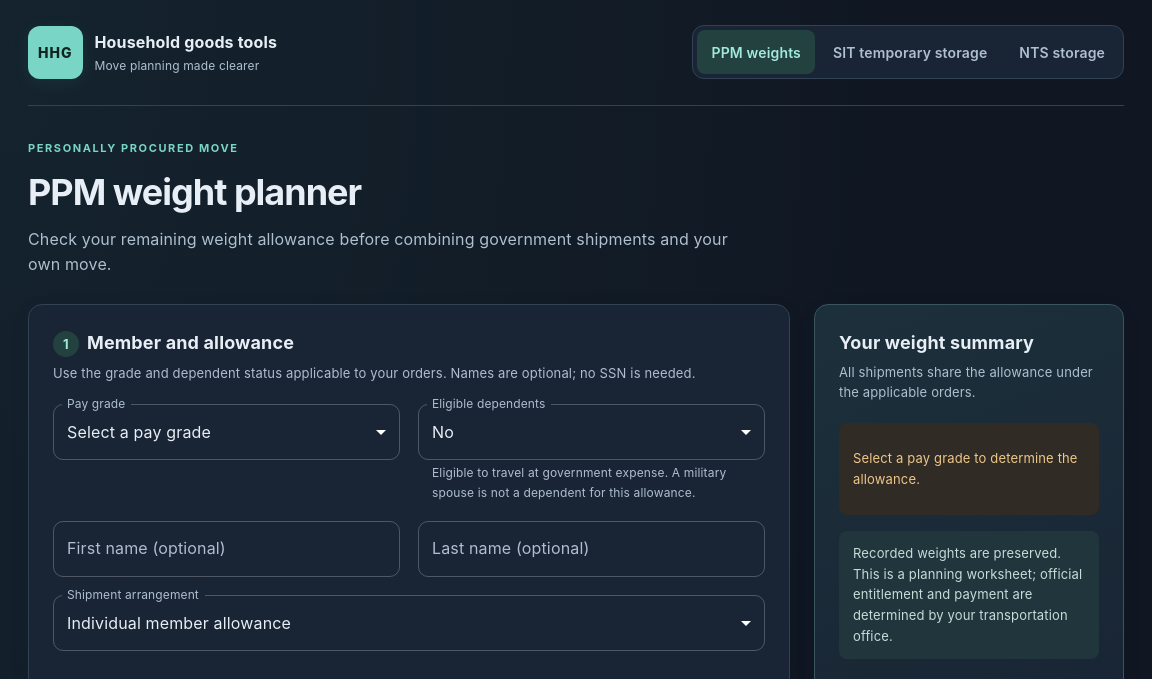
Test: pay grade can be corrected after adding tickets without changing ticket weights
Step 1. Select "E-5" in the dropdown labelled "Pay grade" → [226, 432], box [53,404,400,460]
(page scrolled)
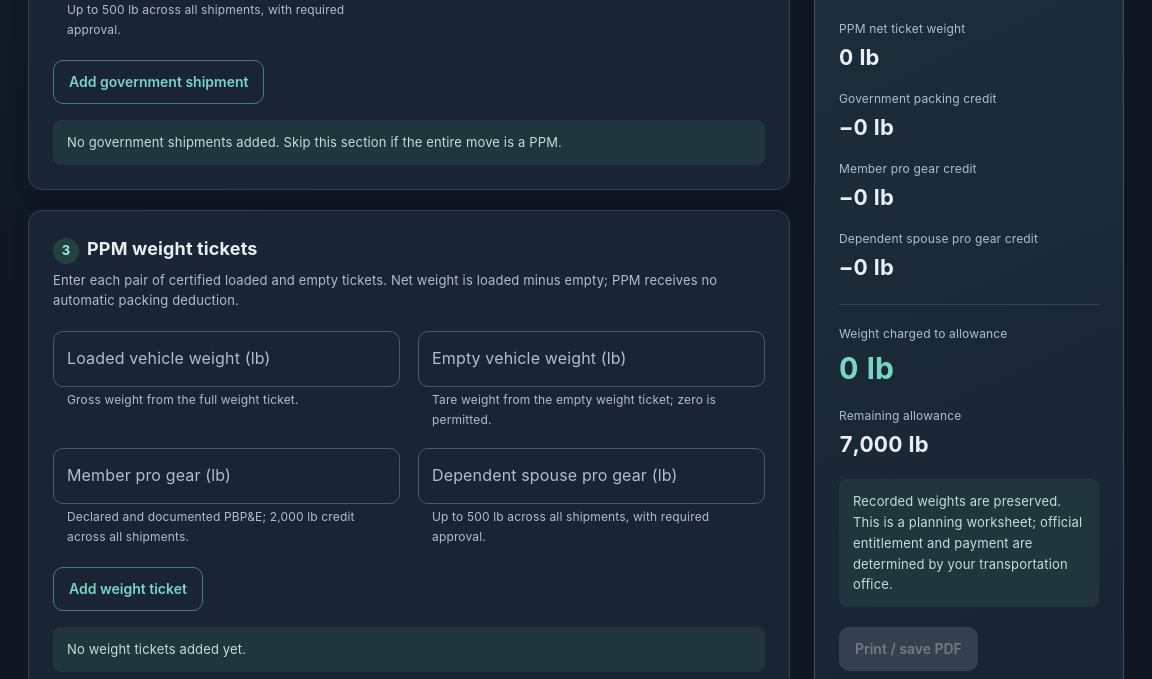
Step 2. Type "1000" into the number field labelled "Loaded vehicle weight (lb)" → [226, 359], box [53,331,400,387]
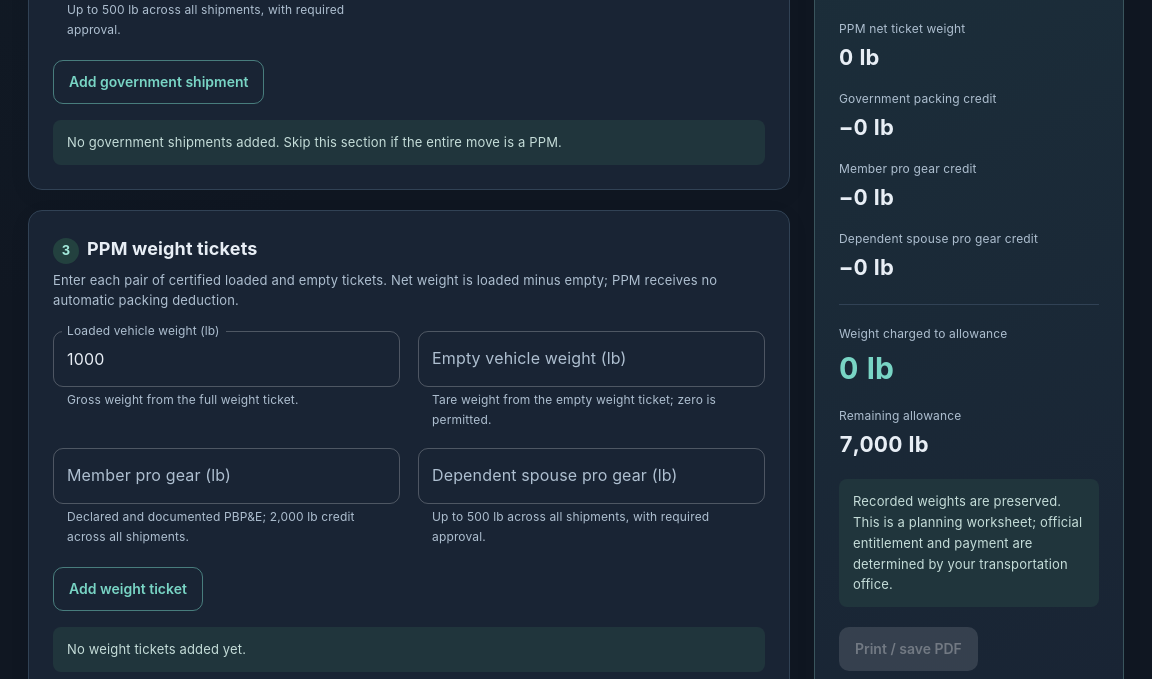
Step 3. Type "0" into the number field labelled "Empty vehicle weight (lb)" → [592, 359], box [418,331,765,387]
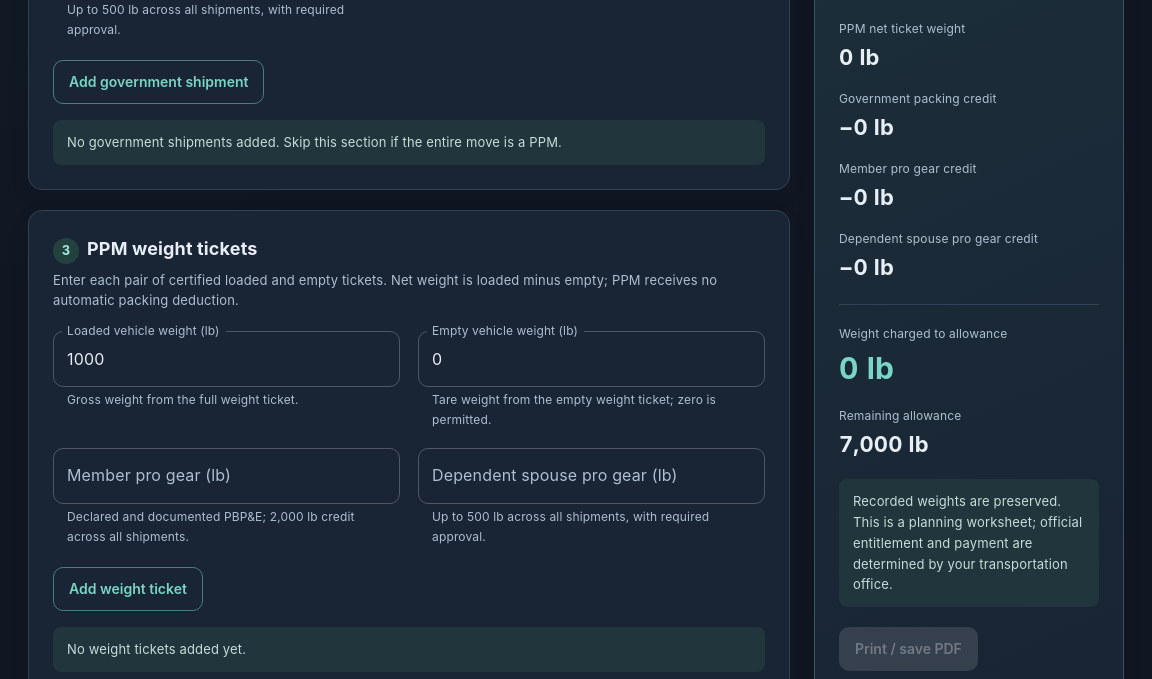
Step 4. Click the button "Add weight ticket" → [128, 589], box [53,567,203,611]
(page scrolled)
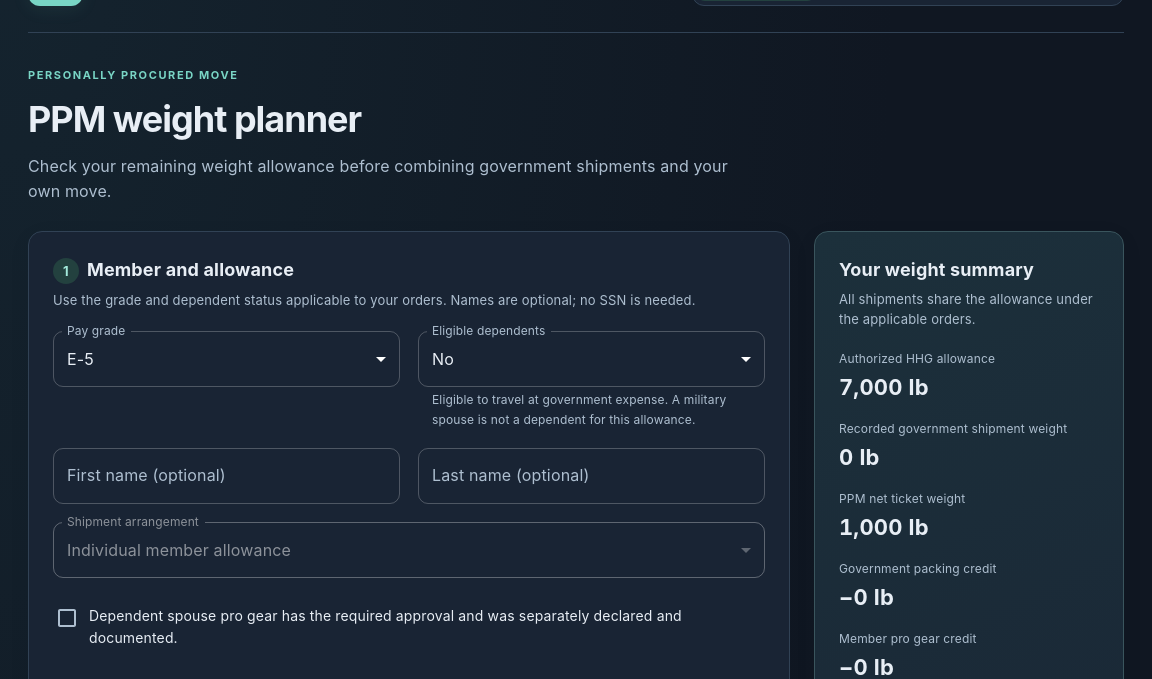
Step 5. Select "O-5" in the dropdown labelled "Pay grade" → [226, 359], box [53,331,400,387]
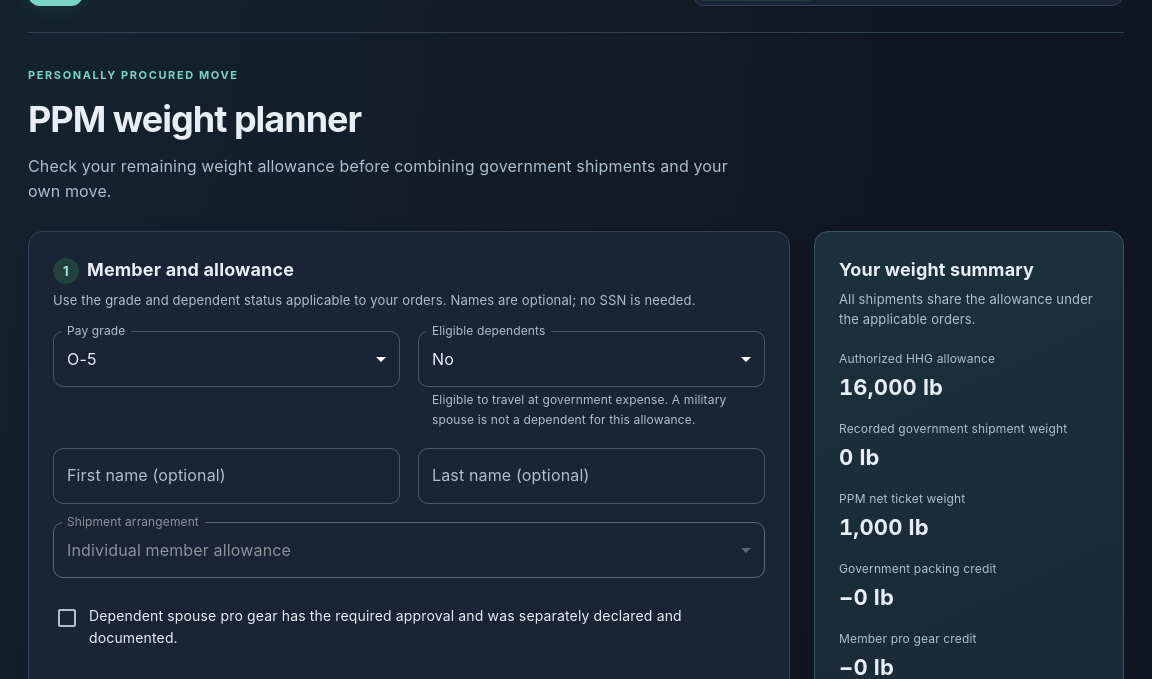
Expected: the text "16,000 lb" is shown, [839,374,943,400]
